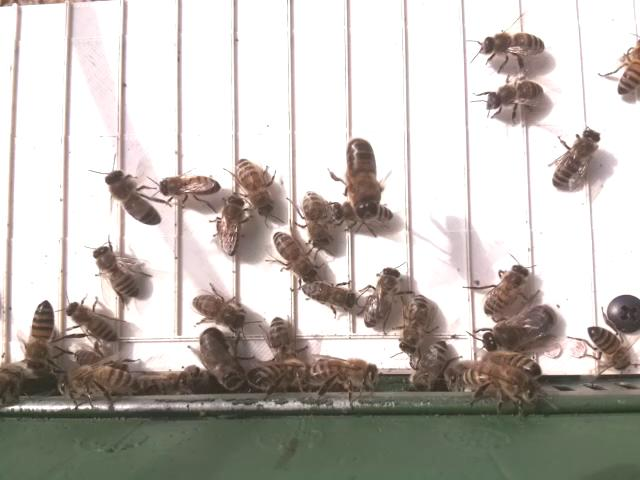Drone: (481, 303, 559, 355), (343, 133, 384, 227), (198, 323, 245, 399)
Worker: (104, 167, 164, 230), (549, 126, 601, 192), (91, 242, 142, 303), (481, 76, 544, 123), (482, 261, 531, 317), (270, 231, 316, 289), (232, 155, 276, 215), (478, 27, 547, 65), (362, 267, 402, 331), (25, 295, 57, 374), (65, 302, 122, 346), (586, 321, 631, 375), (190, 291, 250, 330), (213, 195, 246, 260), (398, 292, 431, 356), (301, 189, 332, 255), (299, 281, 358, 314), (157, 173, 220, 200), (266, 312, 295, 367)
